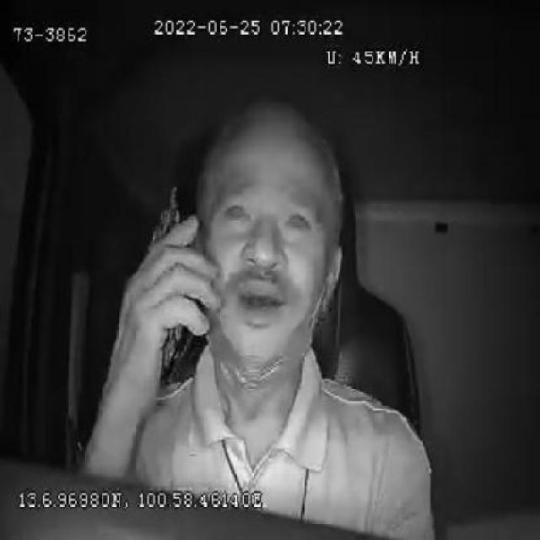phone: (153, 180, 201, 377)
